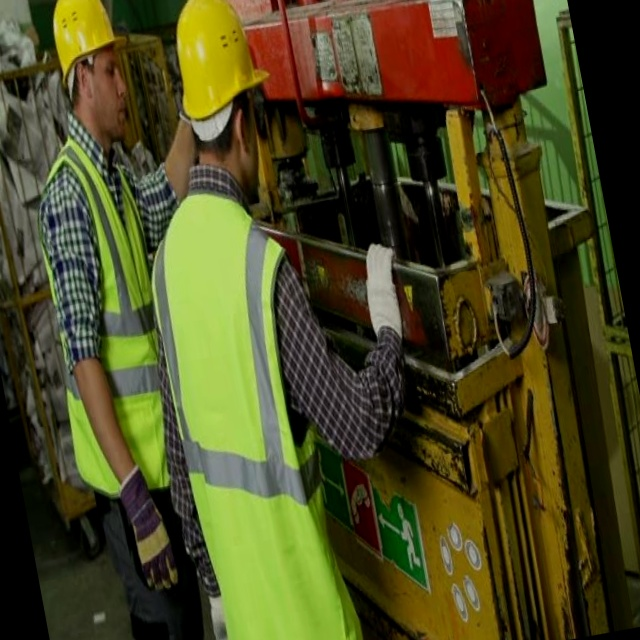Con_Chaleco: (138, 182, 366, 640), (19, 142, 191, 504)
